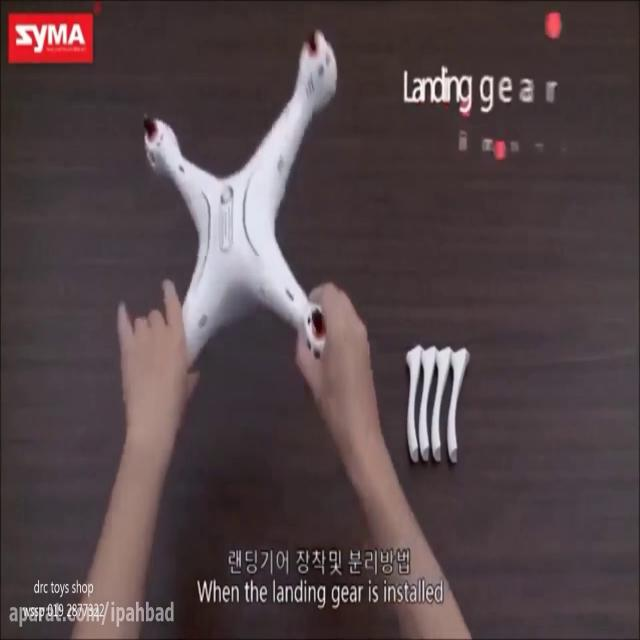drone: (142, 22, 340, 366)
